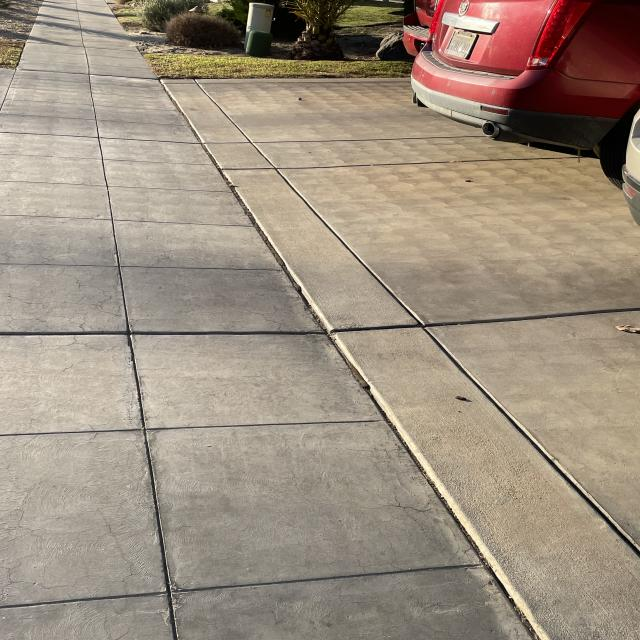walkway: (6, 432, 391, 638), (12, 280, 298, 479), (4, 131, 191, 309), (61, 144, 203, 296), (34, 24, 148, 185)
